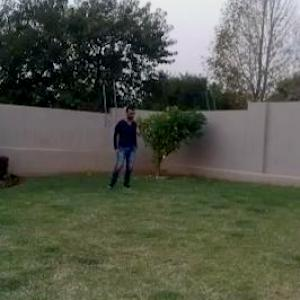follow: (109, 101, 139, 193)
